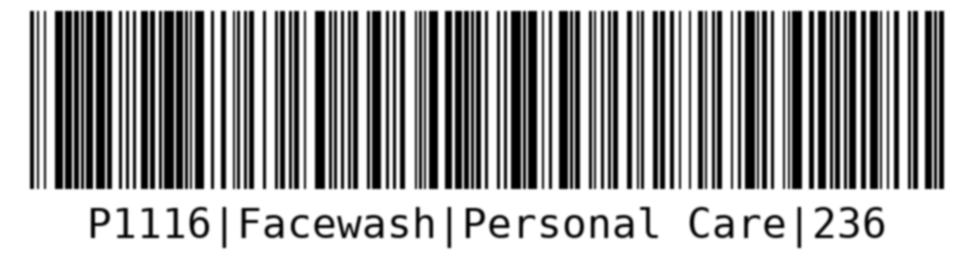milk: (22, 3, 955, 261)
